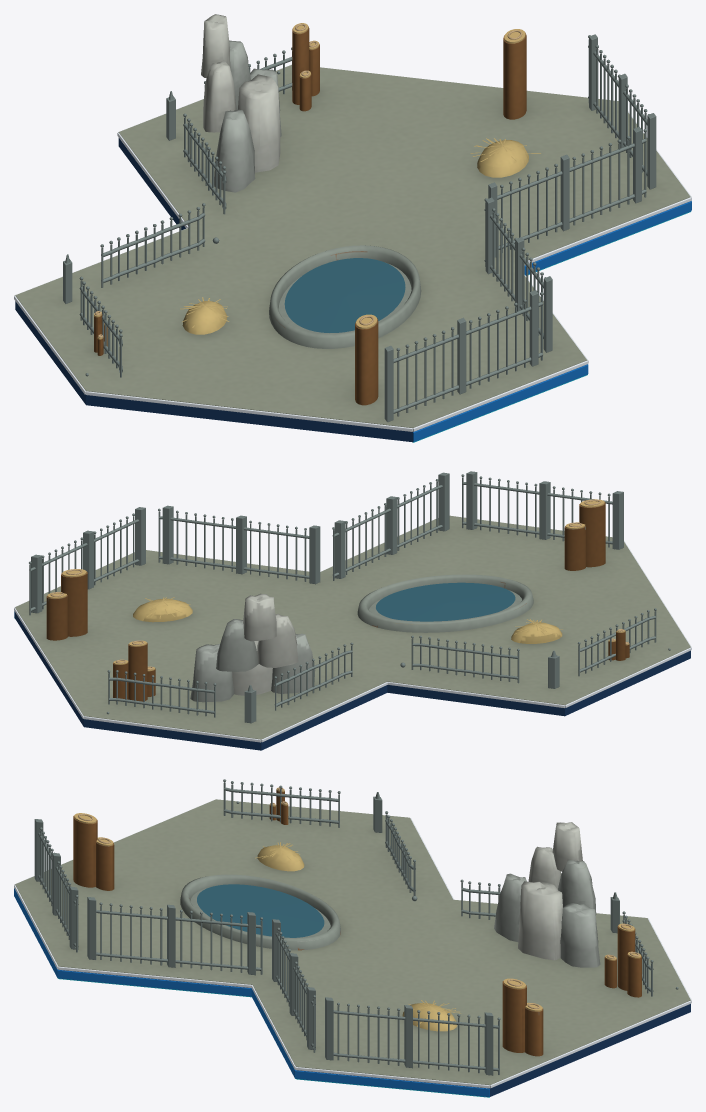
The model's file is field_cm25_01.glb.
3 views of the same model, one above another, from view 1: azimuth 30°, elevation 25°; view 2: azimuth 150°, elevation 25°; view 3: azimuth 270°, elevation 25° (orthographic). The views are drawn at different scales.
Parts seen in each view (by area): view 1: field_cm25_01-refined; view 2: field_cm25_01-refined; view 3: field_cm25_01-refined.
Part boxes in pixels (x1,y1,x2,y2): field_cm25_01-refined: [14, 14, 691, 442]; field_cm25_01-refined: [14, 471, 691, 750]; field_cm25_01-refined: [14, 779, 691, 1097].
Size of the model in its own units: 12.12 by 2.47 by 12.12.
1 material, 1 textured.
